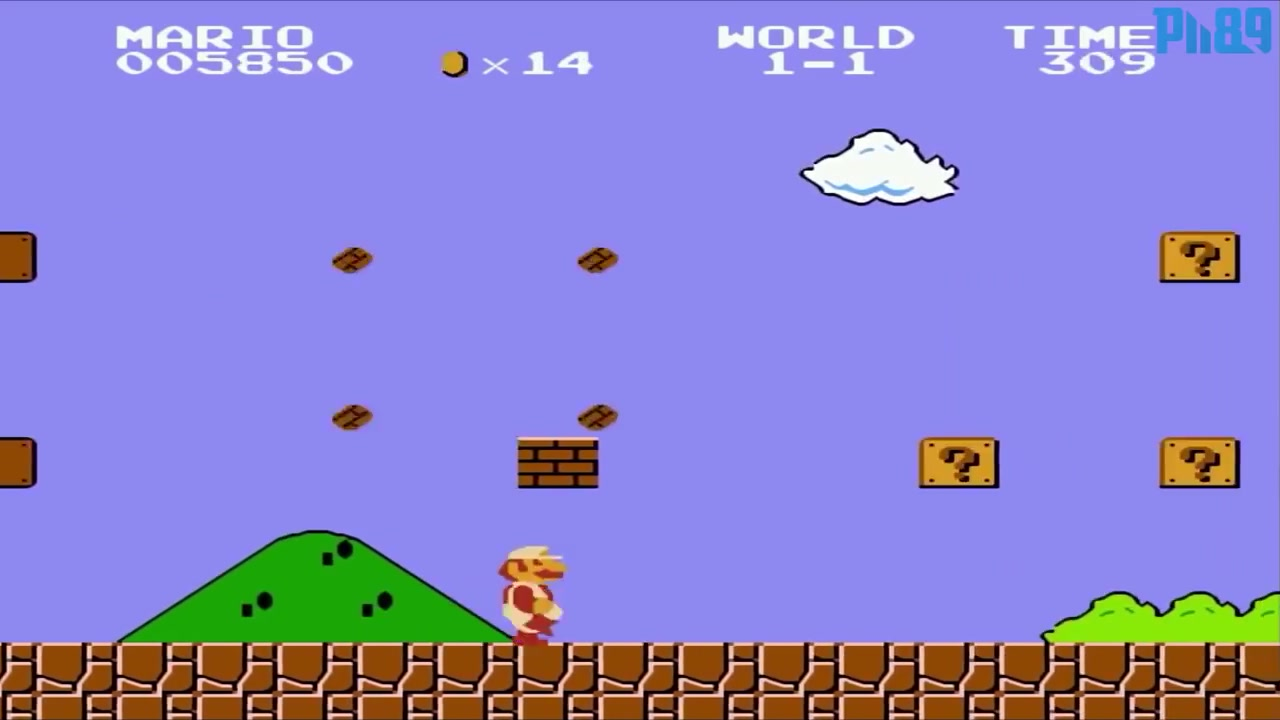mario: (493, 538, 573, 645)
